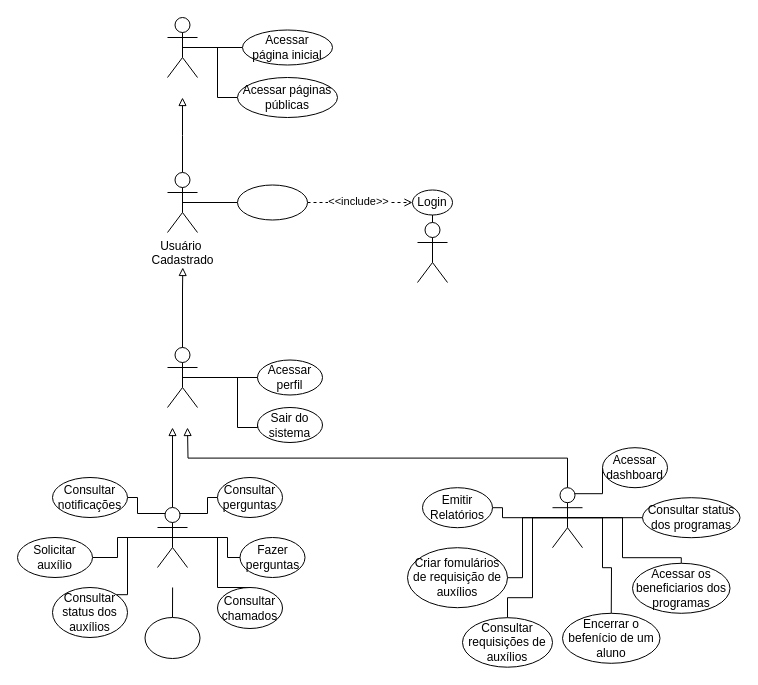
Some shapes in this 758 by 685 pixel diagram are drawn without their labels. Each missing label, with the centre of its shape:
Abrir chamado: (172,637)
Aluno/Bolsista: (172,537)
AS: (567,517)
Entrar no sistema: (272,202)
SUAP: (432,252)
Usuário Logado: (182,377)
Visitante: (182,47)
